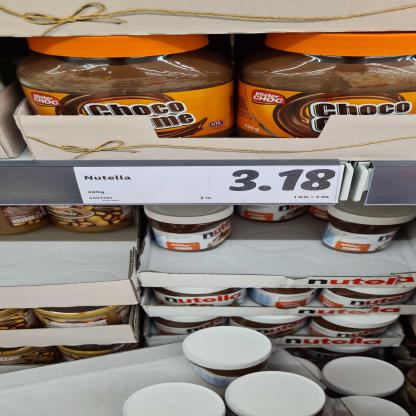prtg: (74, 166, 341, 205)
